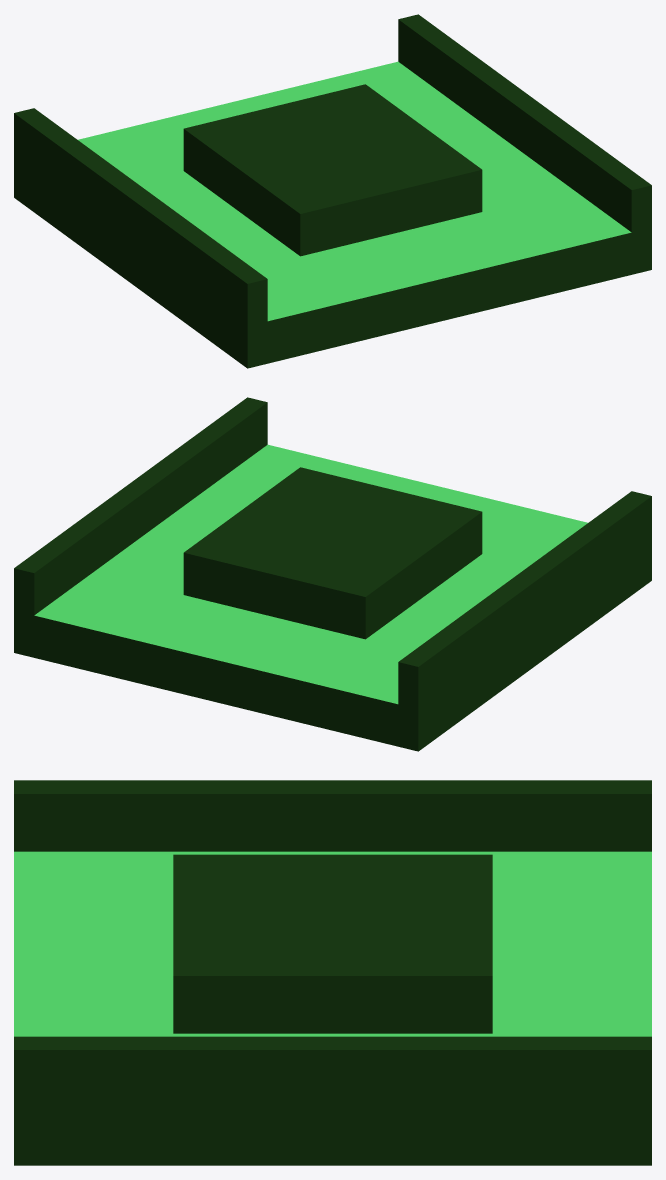
File: MG Square Obstacle.fbx
The picture shows the model from 3 angles, top to bottom: view 1: azimuth 30°, elevation 25°; view 2: azimuth 150°, elevation 25°; view 3: azimuth 270°, elevation 25°; orthographic projection. The views are drawn at different scales.
Visible parts, largest first — view 1: MG Square Obstacle; view 2: MG Square Obstacle; view 3: MG Square Obstacle.
Part boxes in pixels (<box>): MG Square Obstacle: <box>14,14,651,368</box>; MG Square Obstacle: <box>14,397,651,751</box>; MG Square Obstacle: <box>14,780,651,1165</box>.
Size of the model in its own units: 200 by 40 by 200.
